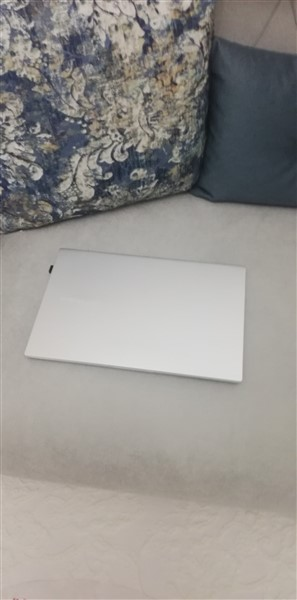laptop: (22, 241, 253, 388)
